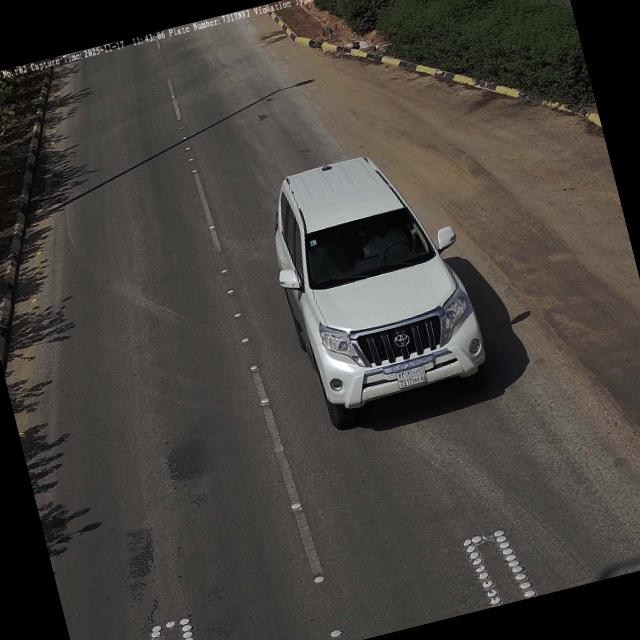person_without_seatbelt: (360, 214, 413, 263)
